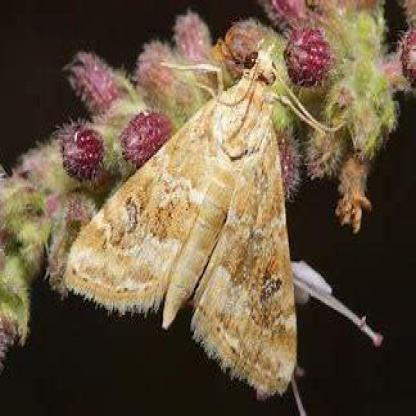Hellula undalis: (63, 39, 348, 401)
